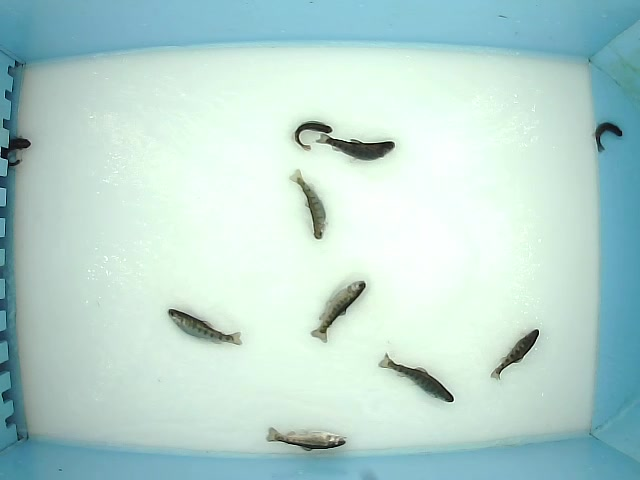fish: (377, 351, 455, 403), (309, 279, 366, 345), (167, 307, 243, 347), (289, 168, 329, 241), (489, 328, 541, 382), (315, 133, 396, 163), (265, 425, 347, 453), (293, 120, 333, 152), (591, 120, 624, 155)
